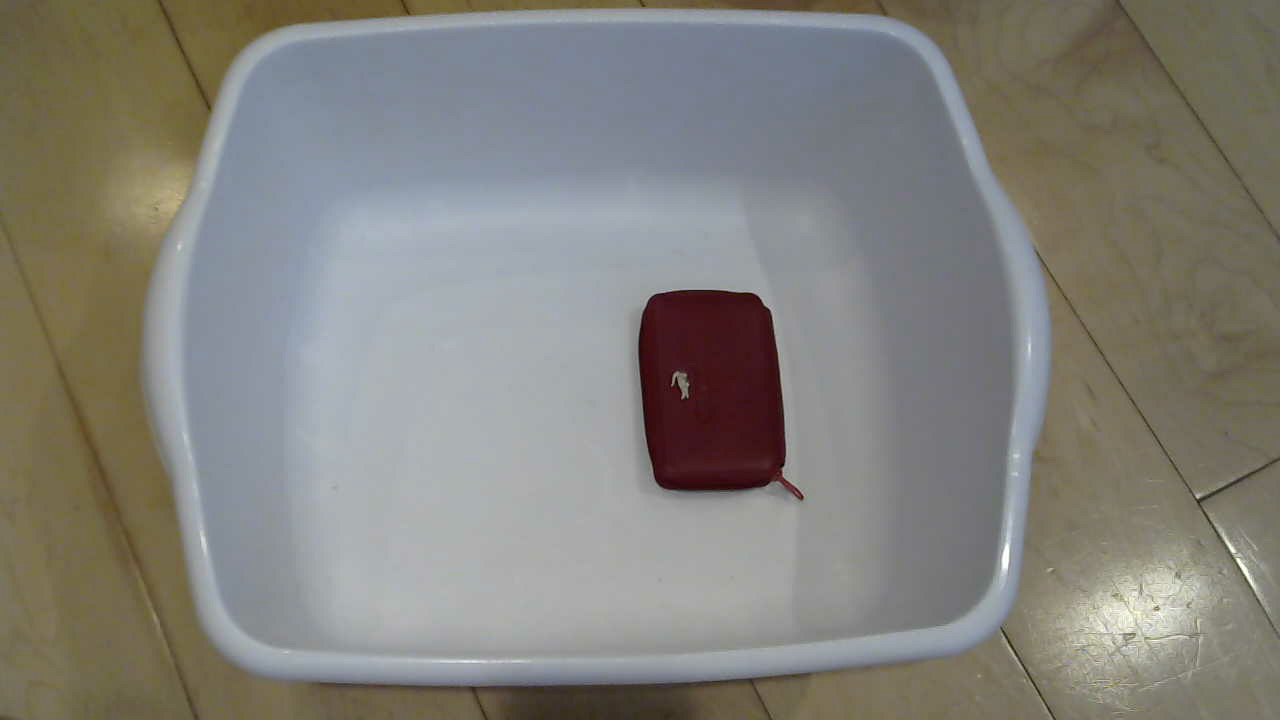wallet: (625, 288, 813, 501)
